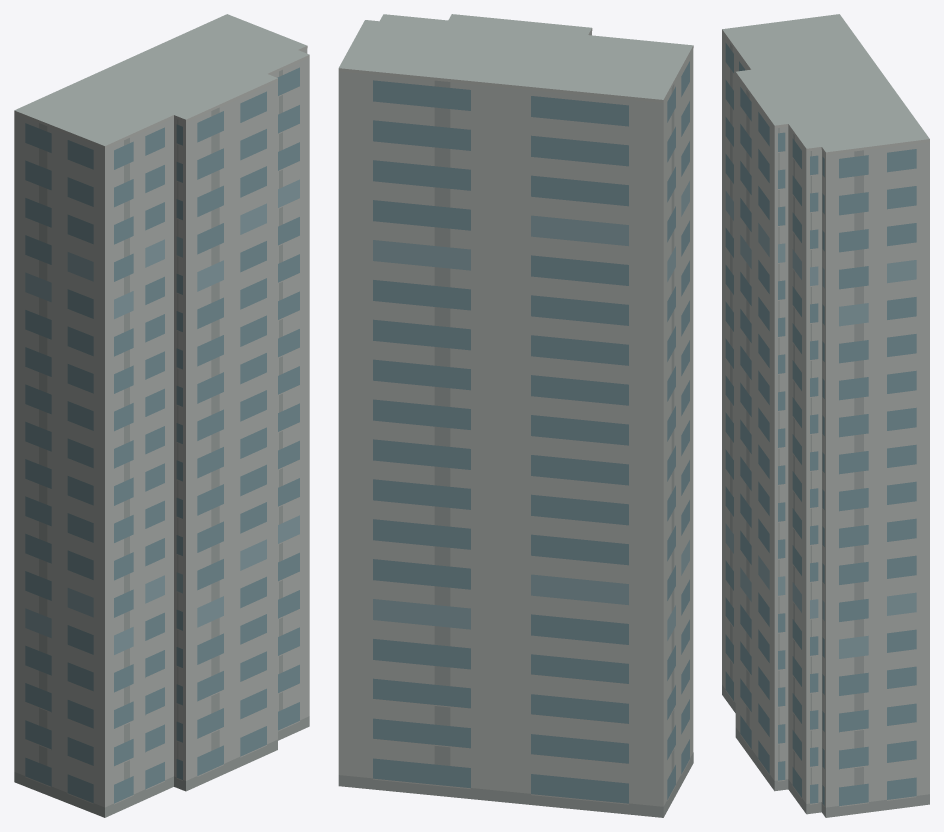
The model's file is residential-4cee3d8c-6128-4c62-aa2a-e2f3ae758d1b.glb.
3 views of the same model, side by side, from view 1: azimuth 30°, elevation 25°; view 2: azimuth 150°, elevation 25°; view 3: azimuth 270°, elevation 25° (orthographic). The views are drawn at different scales.
Parts seen in each view (by area): view 1: residential-4cee3d8c-6128-4c62-aa2a-e2f3ae758d1b.tmp; view 2: residential-4cee3d8c-6128-4c62-aa2a-e2f3ae758d1b.tmp; view 3: residential-4cee3d8c-6128-4c62-aa2a-e2f3ae758d1b.tmp.
Part boxes in pixels (left/top/right/bottom): residential-4cee3d8c-6128-4c62-aa2a-e2f3ae758d1b.tmp: left=14, top=14, right=309, bottom=817; residential-4cee3d8c-6128-4c62-aa2a-e2f3ae758d1b.tmp: left=338, top=14, right=693, bottom=817; residential-4cee3d8c-6128-4c62-aa2a-e2f3ae758d1b.tmp: left=722, top=14, right=929, bottom=817.
Bounding box in the file's own units: 26.32 × 59 × 16.71.
